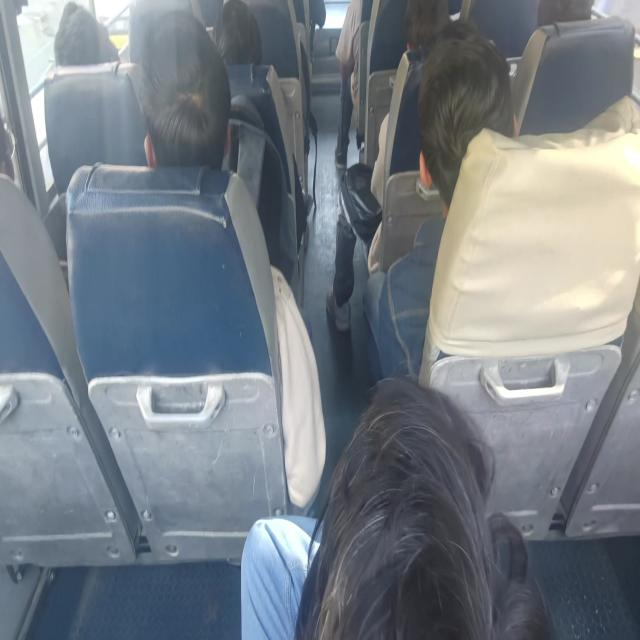person: (310, 377, 546, 640), (143, 21, 235, 182), (420, 54, 513, 200), (399, 0, 472, 58), (55, 0, 119, 65), (214, 0, 261, 66), (526, 0, 602, 39)
